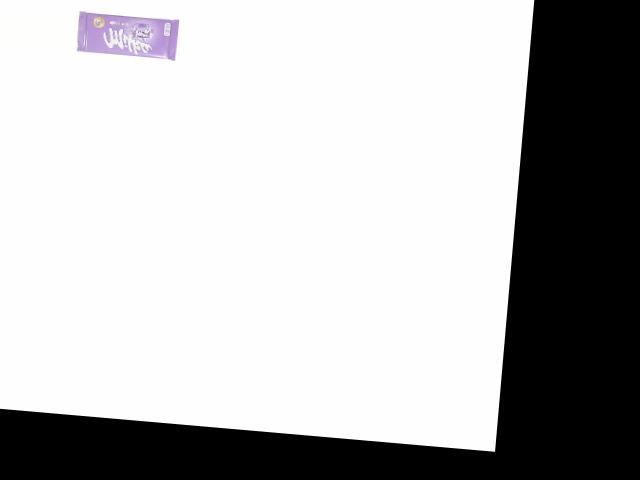chocolate: (75, 5, 185, 62)
